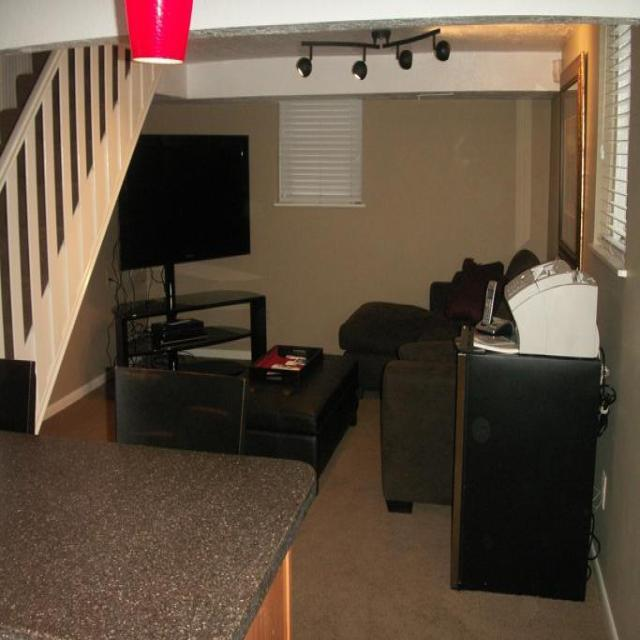cupboard: (449, 324, 603, 601)
light: (123, 0, 193, 64)
shelves: (114, 288, 266, 370)
sofa: (337, 246, 540, 396)
stairs: (0, 39, 163, 435)
table: (0, 428, 317, 638)
windows: (590, 20, 632, 275), (274, 98, 366, 206)
